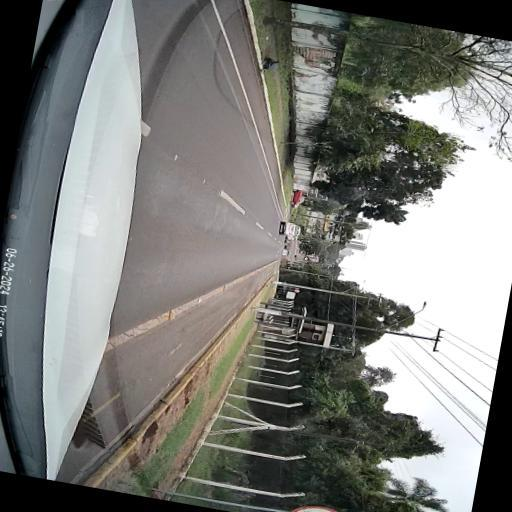R-6a: (286, 499, 341, 512)
